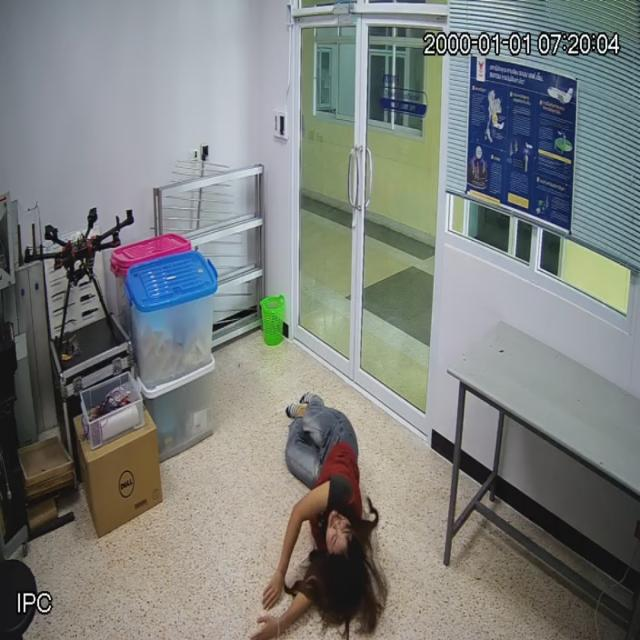fall: (268, 403, 366, 640)
